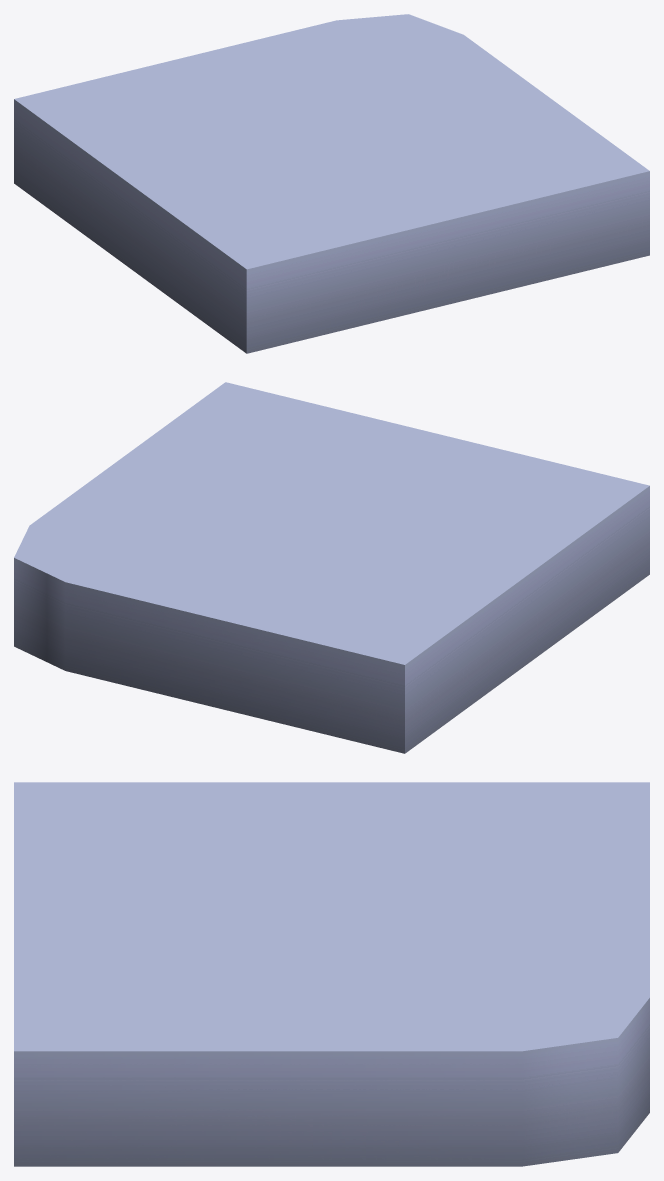
Rendered from floor-thick-corner-rounded.glb.
3 views of the same model, one above another, from view 1: azimuth 30°, elevation 25°; view 2: azimuth 150°, elevation 25°; view 3: azimuth 270°, elevation 25° (orthographic). The views are drawn at different scales.
Visible parts, largest first — view 1: floor-thick-corner-rounded; view 2: floor-thick-corner-rounded; view 3: floor-thick-corner-rounded.
Part boxes in pixels (bbox=[...]): floor-thick-corner-rounded: bbox=[14, 14, 649, 353]; floor-thick-corner-rounded: bbox=[14, 382, 649, 753]; floor-thick-corner-rounded: bbox=[14, 782, 649, 1166].
Bounding box in the file's own units: 1 × 0.2 × 1.
1 material, 1 textured.
